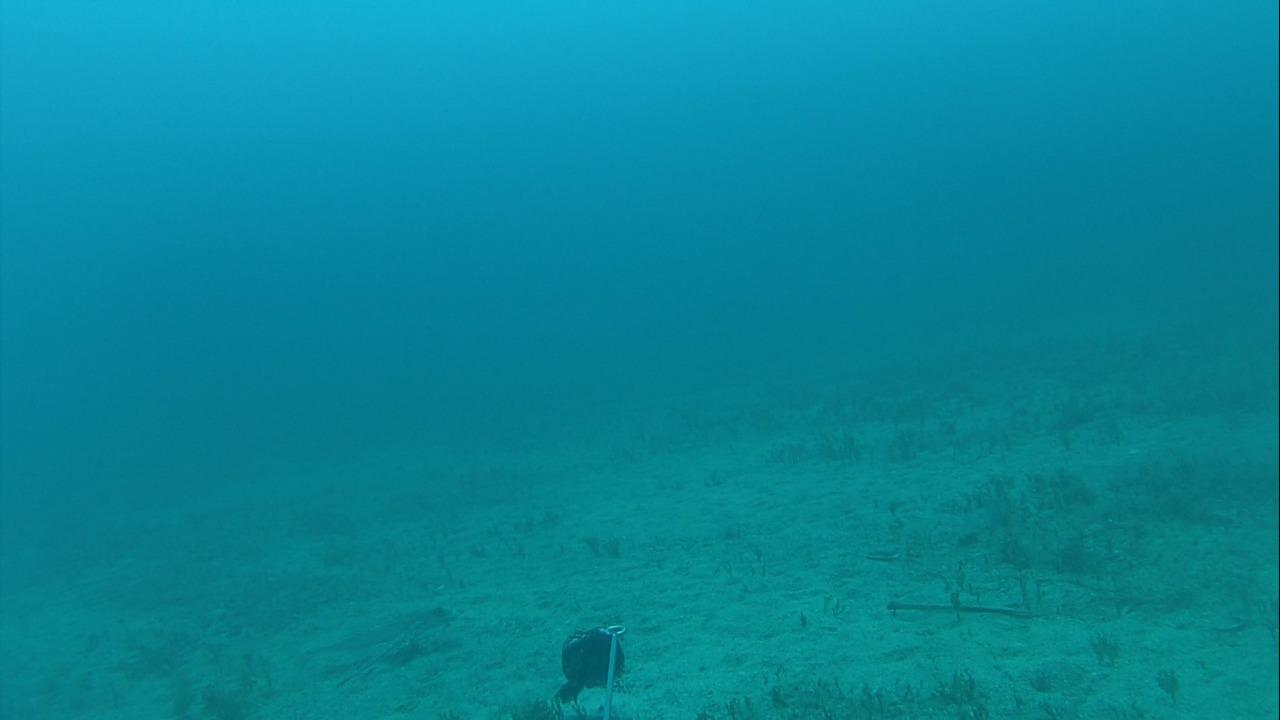dactylopterus: (270, 600, 457, 678)
